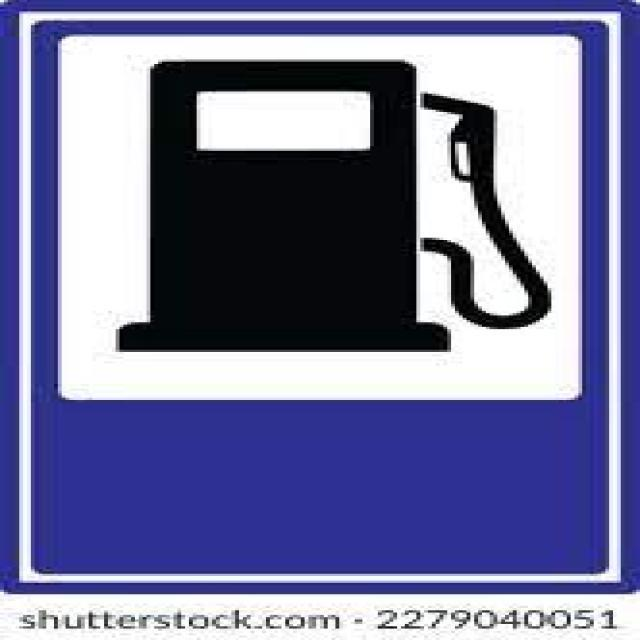petrol pump ahead: (37, 25, 611, 429)
